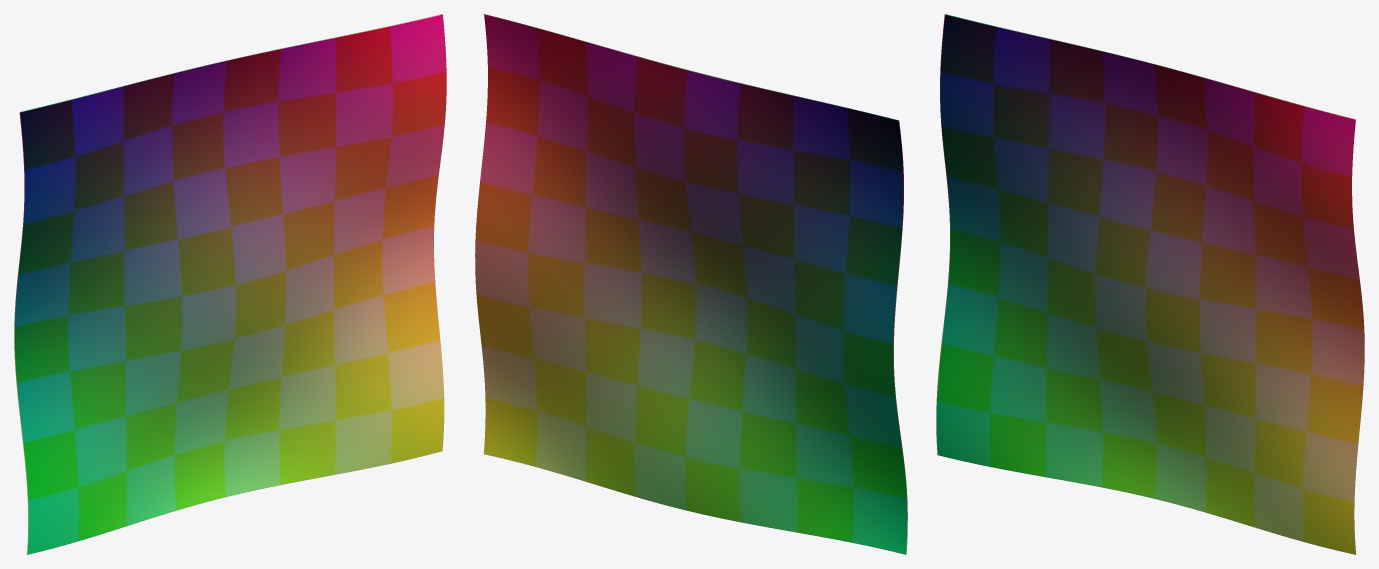
File: Tile_+010_+026.obj
3 views of the same model, side by side, from view 1: azimuth 30°, elevation 25°; view 2: azimuth 150°, elevation 25°; view 3: azimuth 330°, elevation 25° (orthographic).
Size of the model in its own units: 100 by 100 by 6.07.
